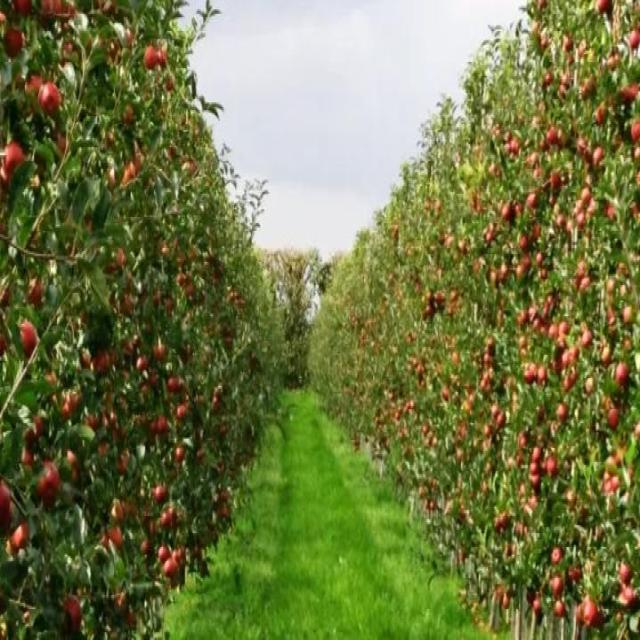row: (163, 386, 496, 638)
